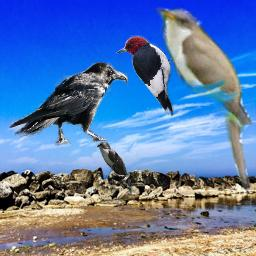Crow: (8, 61, 128, 148)
Cuckoo: (151, 3, 255, 196), (96, 142, 136, 195)
Woodpecker: (113, 35, 178, 116)
